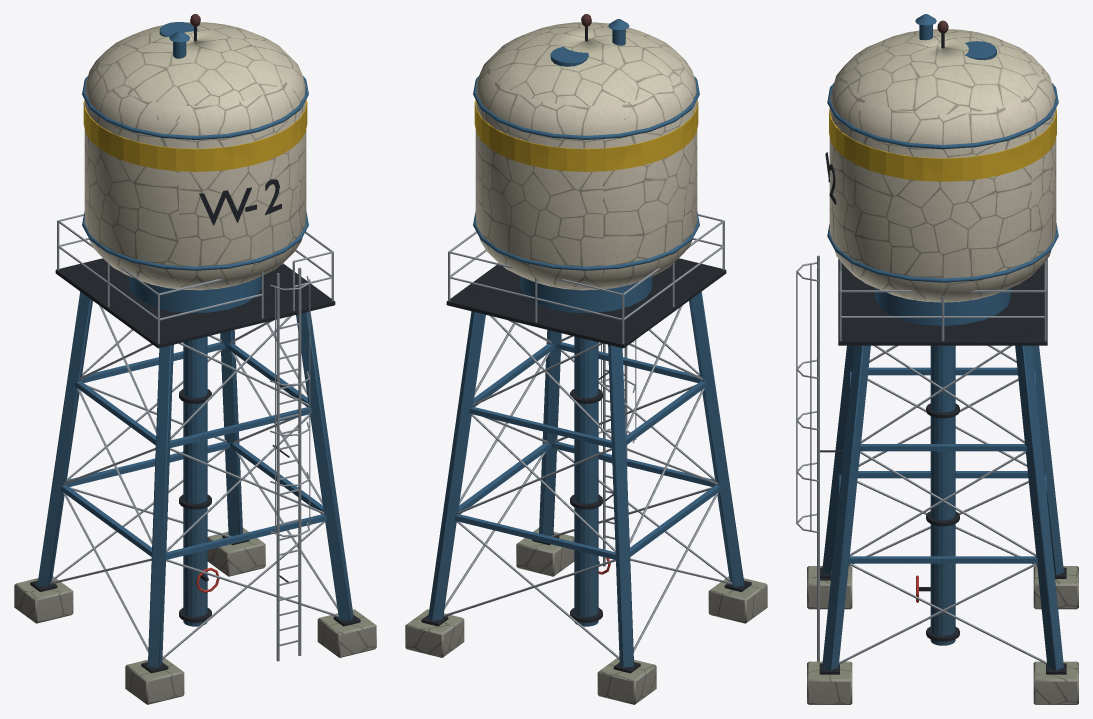
The model's file is water_tower_colony.glb.
3 renders of one model, left to right at view 1: azimuth 30°, elevation 25°; view 2: azimuth 150°, elevation 25°; view 3: azimuth 270°, elevation 25°, orthographic. The views are drawn at different scales.
Visible parts, largest first — view 1: water_tower_colony; view 2: water_tower_colony; view 3: water_tower_colony.
Part boxes in pixels (box(x1,y1,x2,y2)): water_tower_colony: box(14, 14, 376, 704); water_tower_colony: box(405, 14, 767, 704); water_tower_colony: box(796, 14, 1078, 704).
Size of the model in its own units: 4.8 by 12.22 by 5.
11 materials, 11 textured.
